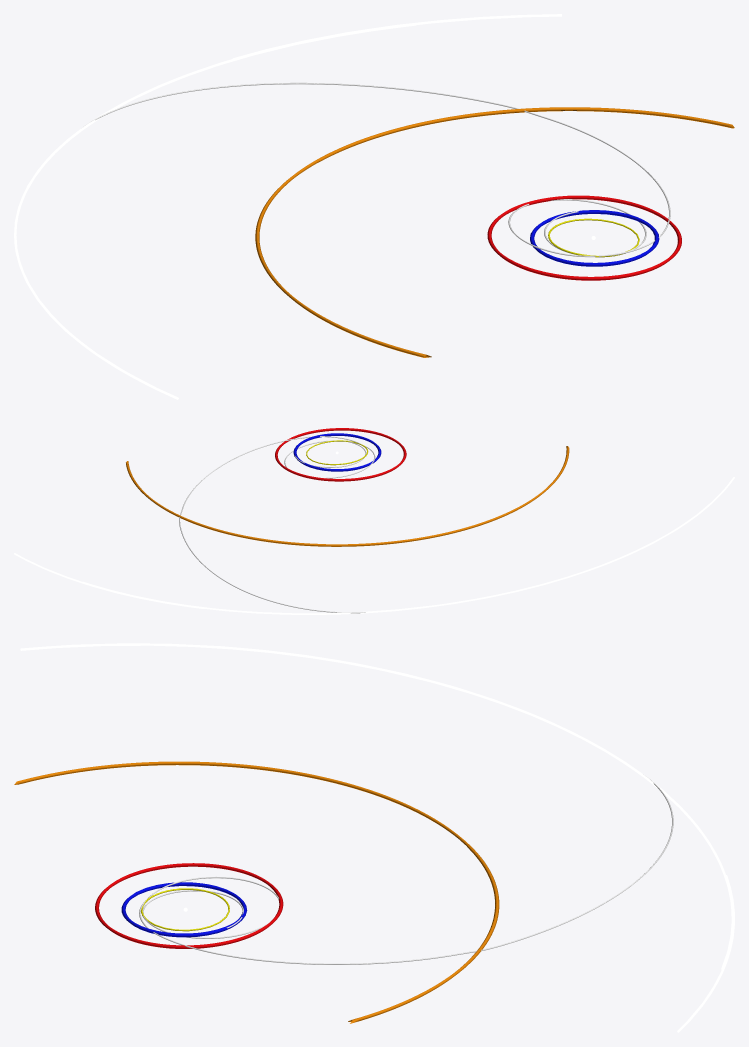
File: RebuiltCassini.glb
3 renders of one model, top to bottom at view 1: azimuth 30°, elevation 25°; view 2: azimuth 150°, elevation 25°; view 3: azimuth 270°, elevation 25°, orthographic. The views are drawn at different scales.
Visible parts, largest first — view 1: Jupiter Trajectory, Saturn Trajectory, Cassini Trajectory, Mars Trajectory, Earth Trajectory; view 2: Saturn Trajectory, Jupiter Trajectory, Cassini Trajectory, Mars Trajectory, Earth Trajectory; view 3: Jupiter Trajectory, Saturn Trajectory, Cassini Trajectory, Mars Trajectory, Earth Trajectory.
Boxes of the visible parts, left/top/right/bottom form: Jupiter Trajectory: left=255, top=107, right=734, bottom=357; Saturn Trajectory: left=14, top=14, right=561, bottom=399; Cassini Trajectory: left=83, top=82, right=670, bottom=257; Mars Trajectory: left=487, top=195, right=681, bottom=280; Earth Trajectory: left=530, top=210, right=659, bottom=266; Saturn Trajectory: left=14, top=477, right=734, bottom=614; Jupiter Trajectory: left=126, top=446, right=569, bottom=546; Cassini Trajectory: left=179, top=436, right=375, bottom=613; Mars Trajectory: left=275, top=428, right=406, bottom=481; Earth Trajectory: left=293, top=433, right=381, bottom=471; Jupiter Trajectory: left=14, top=761, right=499, bottom=1023; Saturn Trajectory: left=20, top=643, right=734, bottom=1032; Cassini Trajectory: left=139, top=774, right=673, bottom=964; Mars Trajectory: left=95, top=863, right=283, bottom=948; Earth Trajectory: left=121, top=882, right=247, bottom=937.
Bounding box in the file's own units: 2048 × 113 × 1777.
